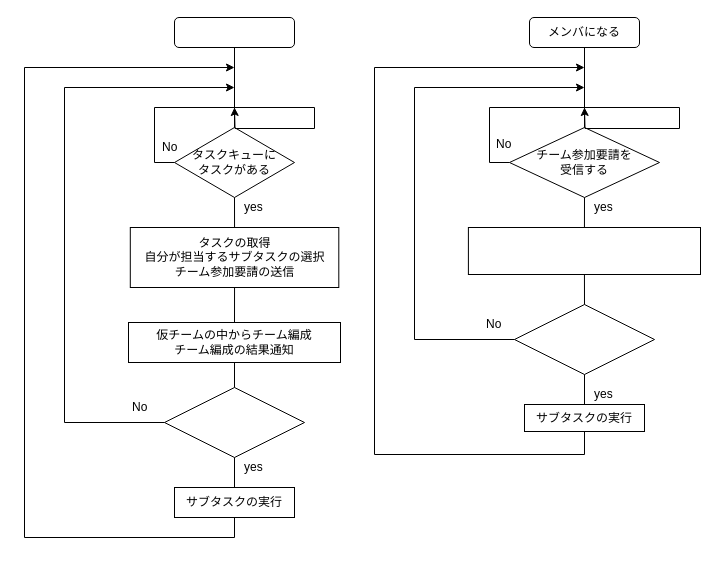
This 718x563 diagram has some shape labels left out. The shapes that lost their labels are listed below. From the top down, each one's centre as x and y in pixels, then its label:
At (234,32): "リーダーになる".
At (583,250): "各参加要請に対して受理・拒否を判断 リーダーへ受理・拒否の返信".
At (584,339): "サブタスクが 割り当てられる".
At (234,422): "自分が担当する サブタスクがある".
